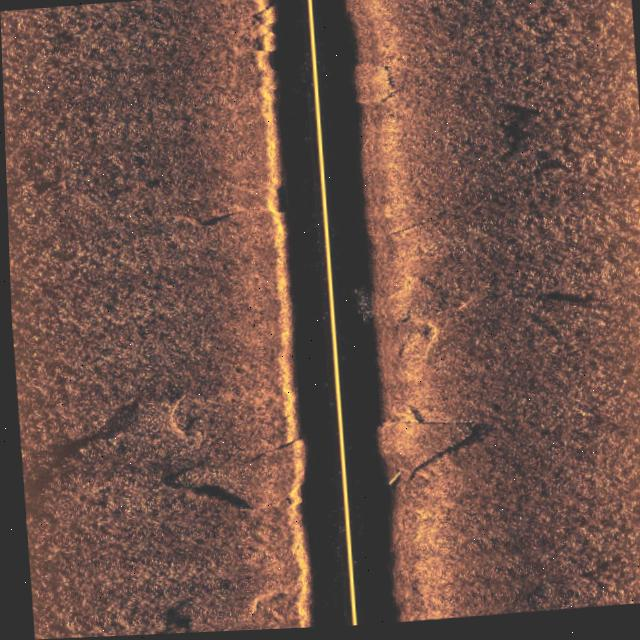mine: (379, 471, 403, 493)
